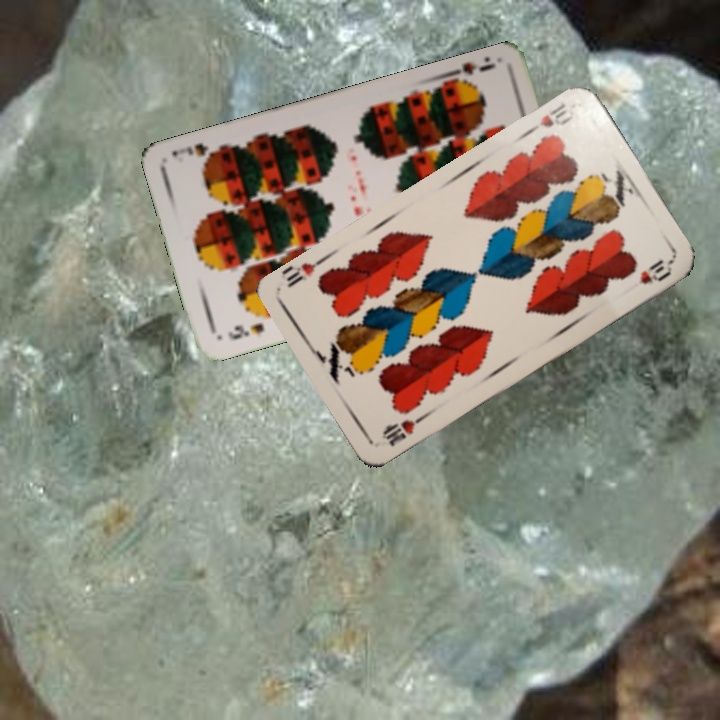H10: (523, 99, 577, 137), (377, 410, 428, 449)
S9: (443, 53, 498, 91), (224, 318, 267, 342)
